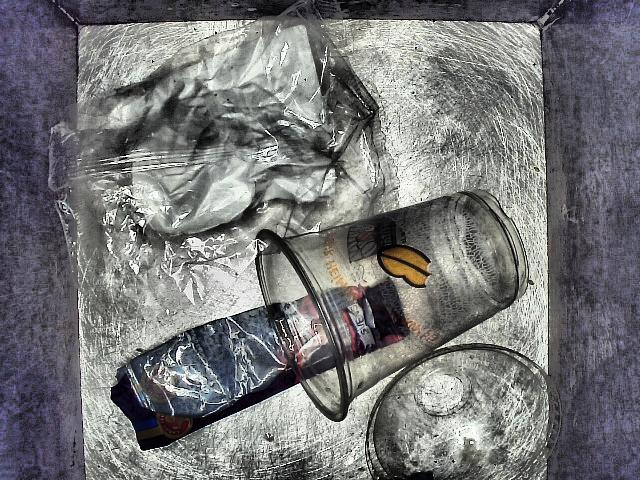Plastic: (62, 22, 399, 294), (270, 177, 528, 420), (108, 282, 425, 450), (365, 351, 611, 480)
